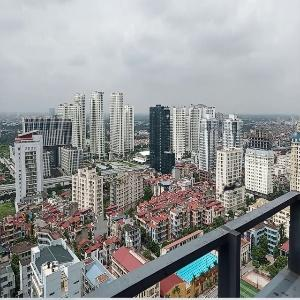drone: (209, 168, 255, 214)
